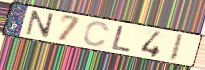4: (138, 29, 163, 58)
7: (57, 14, 83, 43)
C: (81, 20, 111, 48)
I: (168, 33, 185, 63)
L: (110, 24, 133, 53)
N: (24, 9, 55, 40)
